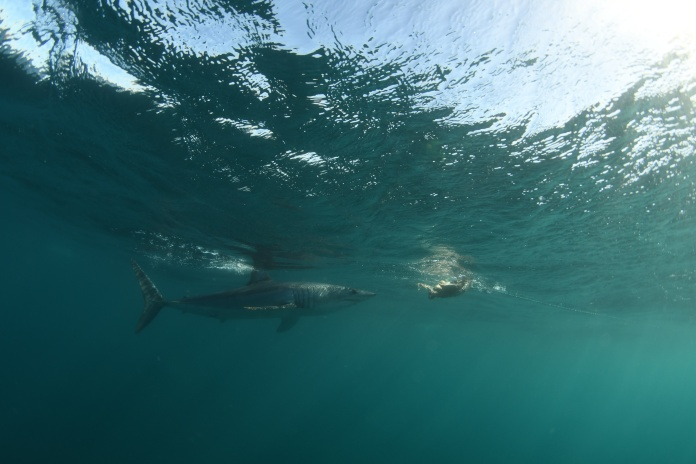Mako: (112, 249, 387, 343)
